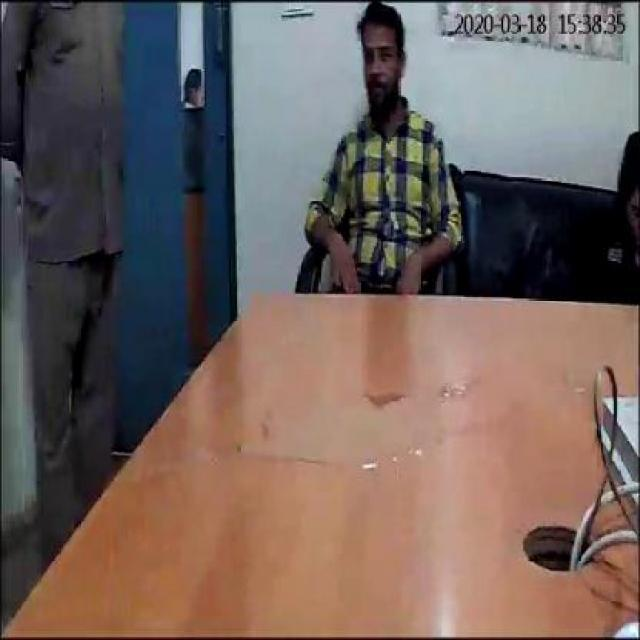spill: (234, 370, 476, 475)
